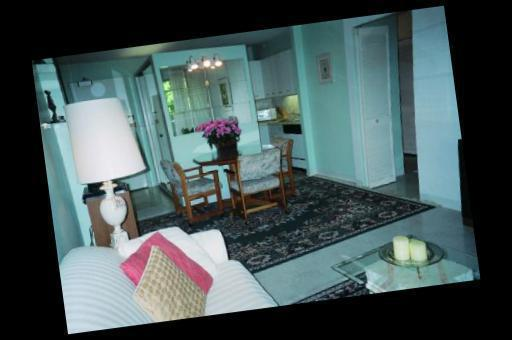Puerta: (354, 21, 403, 192)
